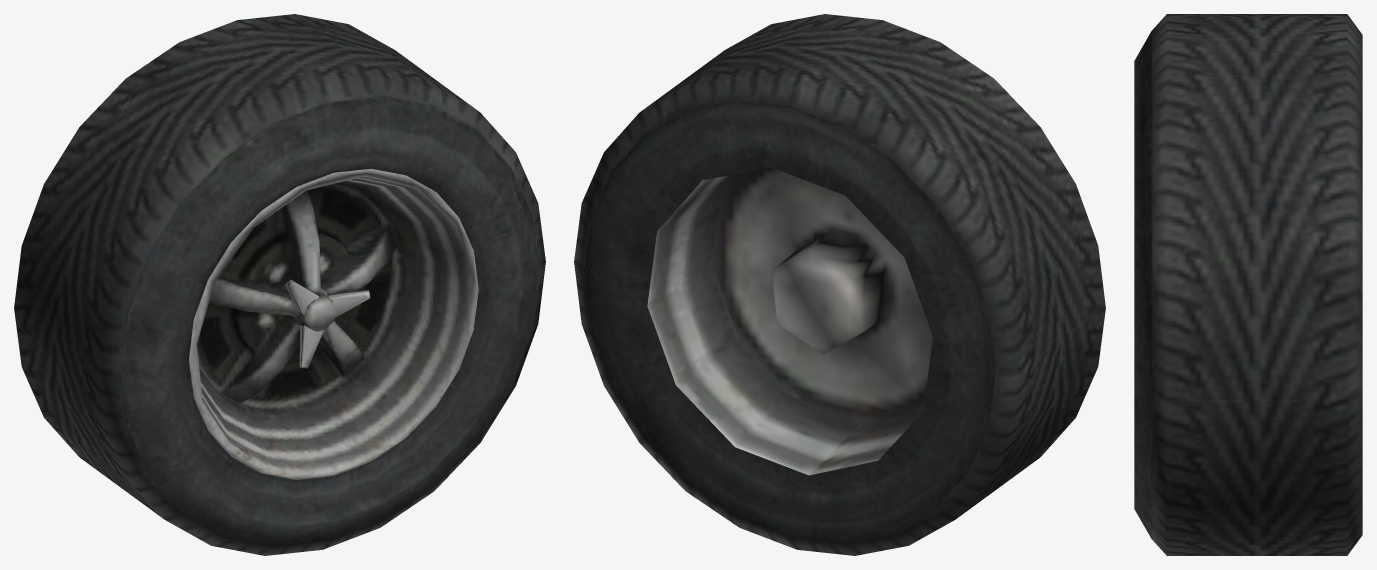
Rendered from V_A_ClassicMuscle_Wheels_10_SkeletalMesh3_SkeletalMesh_21.psk.glb.
The picture shows the model from 3 angles, left to right: view 1: azimuth 30°, elevation 25°; view 2: azimuth 150°, elevation 25°; view 3: azimuth 270°, elevation 25°; orthographic projection. The views are drawn at different scales.
Size of the model in its own units: 67.92 by 67.92 by 28.52.
Materials: 1 (1 with a texture image).
